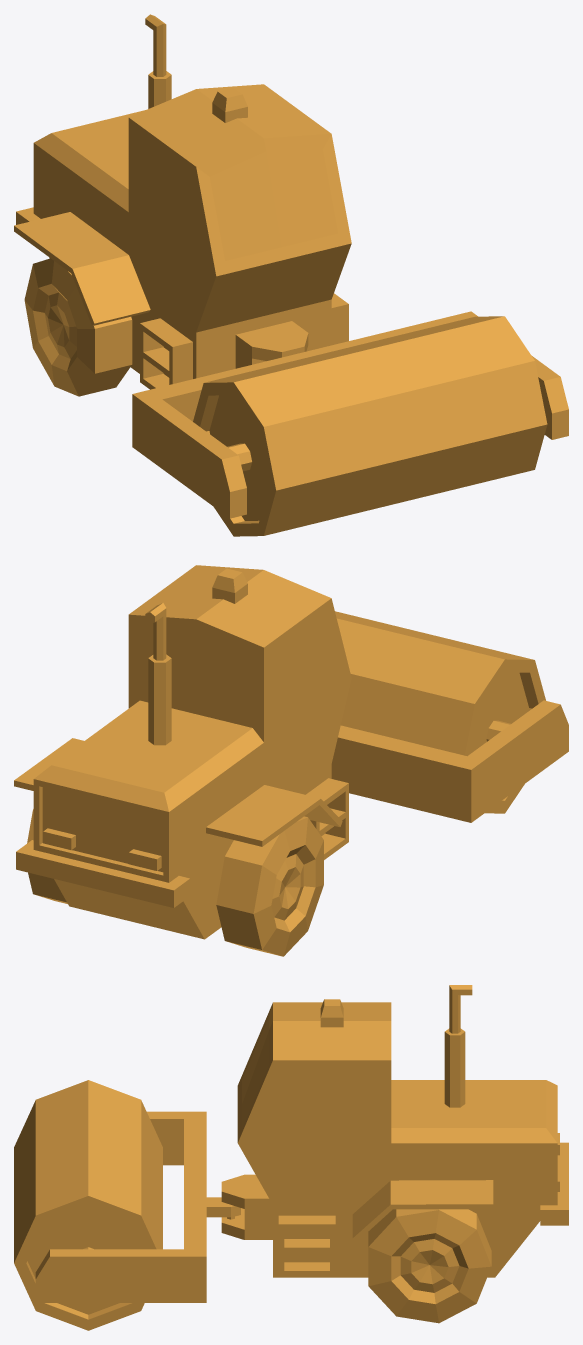
The model's file is road-roller.glb.
3 renders of one model, top to bottom at view 1: azimuth 30°, elevation 25°; view 2: azimuth 150°, elevation 25°; view 3: azimuth 270°, elevation 25°, orthographic. The views are drawn at different scales.
Visible parts, largest first — view 1: road-roller-base, road-roller-cylinder, road-roller-wheel-frame_F, road-roller-wheel_BR; view 2: road-roller-base, road-roller-cylinder, road-roller-wheel-frame_F, road-roller-wheel_BR, road-roller-wheel_BL; view 3: road-roller-base, road-roller-cylinder, road-roller-wheel-frame_F, road-roller-wheel_BL.
Part boxes in pixels (x1,y1,x2,y2): road-roller-base: [14, 14, 351, 389]; road-roller-cylinder: [193, 316, 547, 536]; road-roller-wheel-frame_F: [132, 311, 568, 518]; road-roller-wheel_BR: [24, 258, 132, 396]; road-roller-base: [14, 565, 351, 939]; road-roller-cylinder: [335, 611, 545, 813]; road-roller-wheel-frame_F: [331, 700, 568, 822]; road-roller-wheel_BR: [216, 816, 323, 956]; road-roller-wheel_BL: [27, 809, 67, 903]; road-roller-base: [221, 985, 568, 1277]; road-roller-cylinder: [14, 1080, 162, 1330]; road-roller-wheel-frame_F: [35, 1111, 240, 1302]; road-roller-wheel_BL: [368, 1209, 491, 1323].
Size of the model in its own units: 3 by 2.8 by 4.86.
